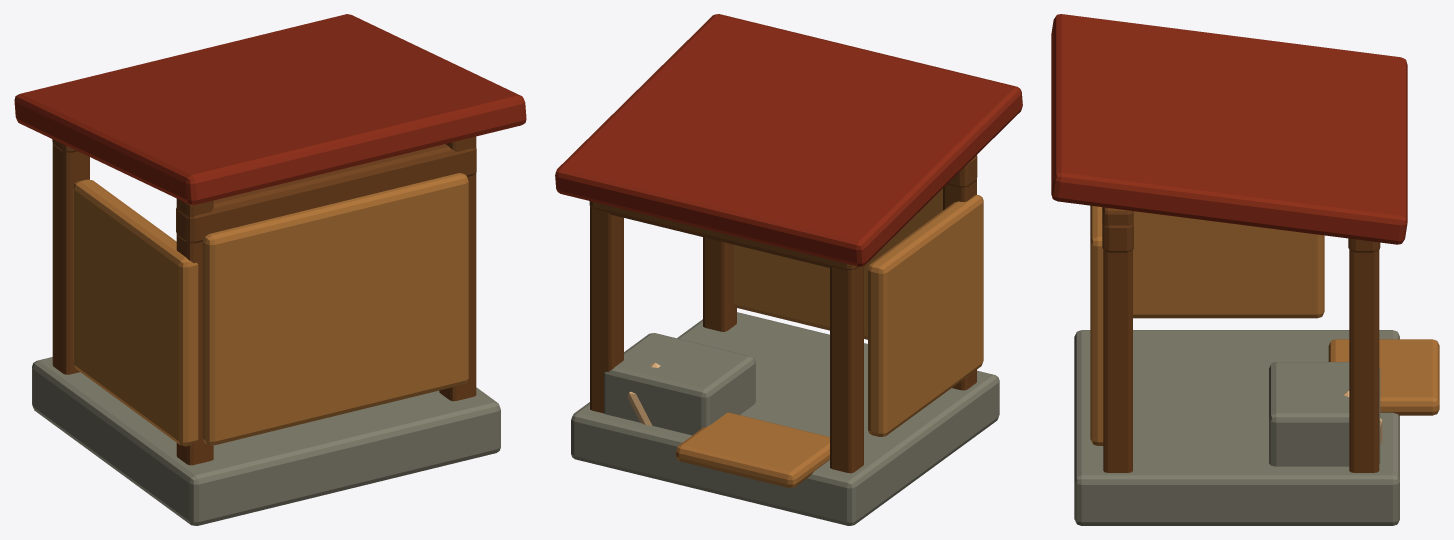
The model's file is GoatShelter.glb.
The picture shows the model from 3 angles, left to right: view 1: azimuth 30°, elevation 25°; view 2: azimuth 150°, elevation 25°; view 3: azimuth 270°, elevation 25°; orthographic projection. The views are drawn at different scales.
Visible parts, largest first — view 1: GoatShelter_Walls, GoatShelter_Roof, GoatShelter_Stone, GoatShelter_Frame; view 2: GoatShelter_Roof, GoatShelter_Stone, GoatShelter_Walls, GoatShelter_Frame, GoatShelter_Platform; view 3: GoatShelter_Roof, GoatShelter_Stone, GoatShelter_Walls, GoatShelter_Frame, GoatShelter_Platform.
Part boxes in pixels (<box>): GoatShelter_Walls: <box>73,173,468,446</box>; GoatShelter_Roof: <box>14,14,526,205</box>; GoatShelter_Stone: <box>32,357,500,525</box>; GoatShelter_Frame: <box>52,136,476,465</box>; GoatShelter_Roof: <box>555,14,1022,266</box>; GoatShelter_Stone: <box>571,312,999,525</box>; GoatShelter_Walls: <box>733,188,983,436</box>; GoatShelter_Frame: <box>589,155,977,473</box>; GoatShelter_Platform: <box>604,333,829,487</box>; GoatShelter_Roof: <box>1051,14,1407,244</box>; GoatShelter_Stone: <box>1074,330,1399,525</box>; GoatShelter_Walls: <box>1090,205,1324,445</box>; GoatShelter_Frame: <box>1102,207,1380,472</box>; GoatShelter_Platform: <box>1269,339,1439,466</box>.
Bounding box in the file's own units: 0.98 × 0.9997 × 0.9787.
